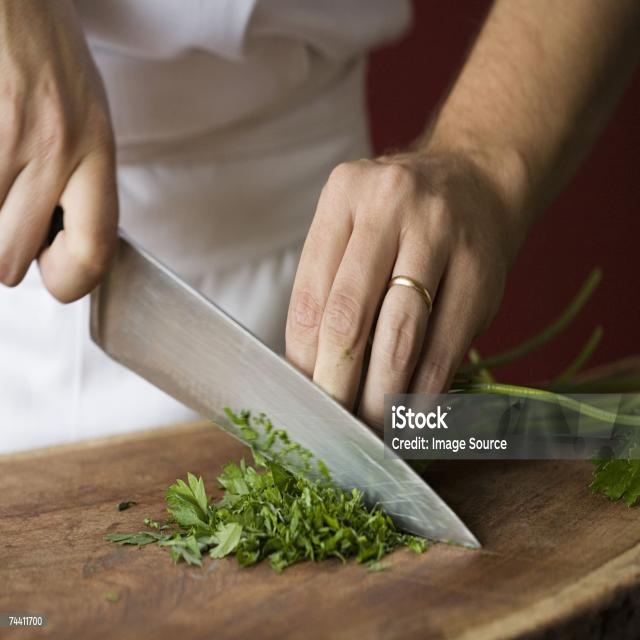Knife: (90, 235, 479, 547)
